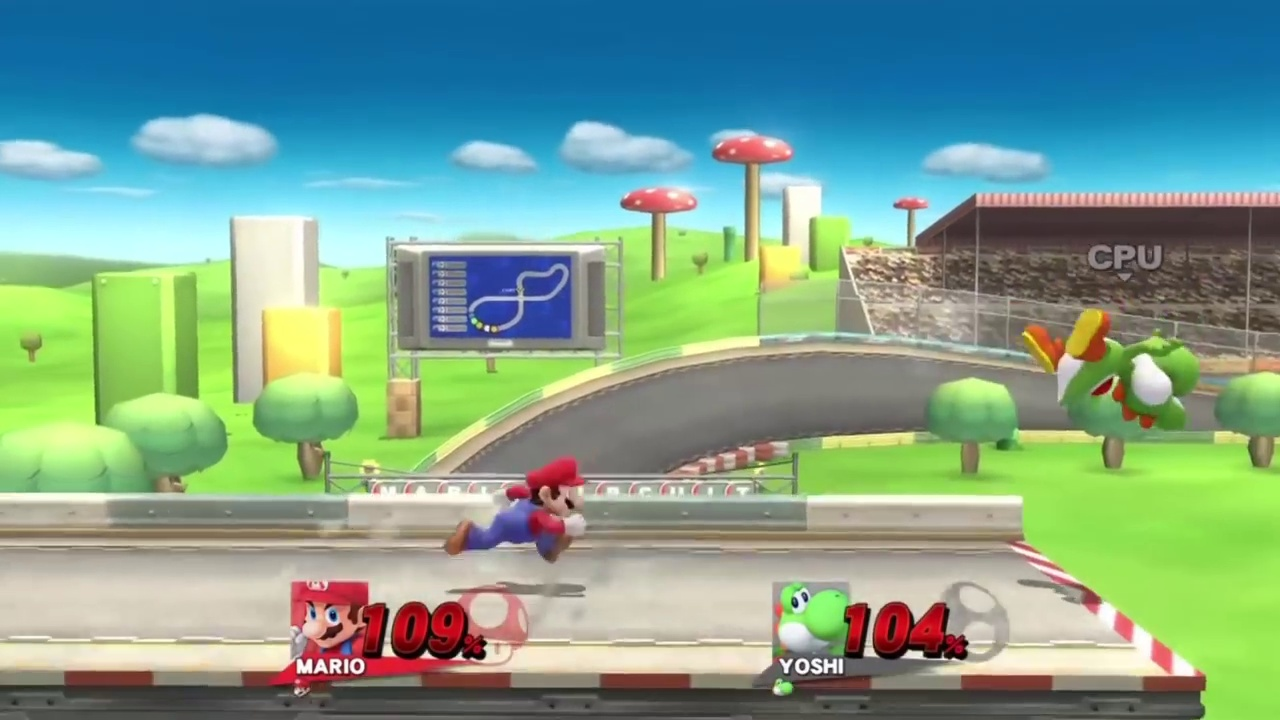Mario: (443, 456, 585, 564)
